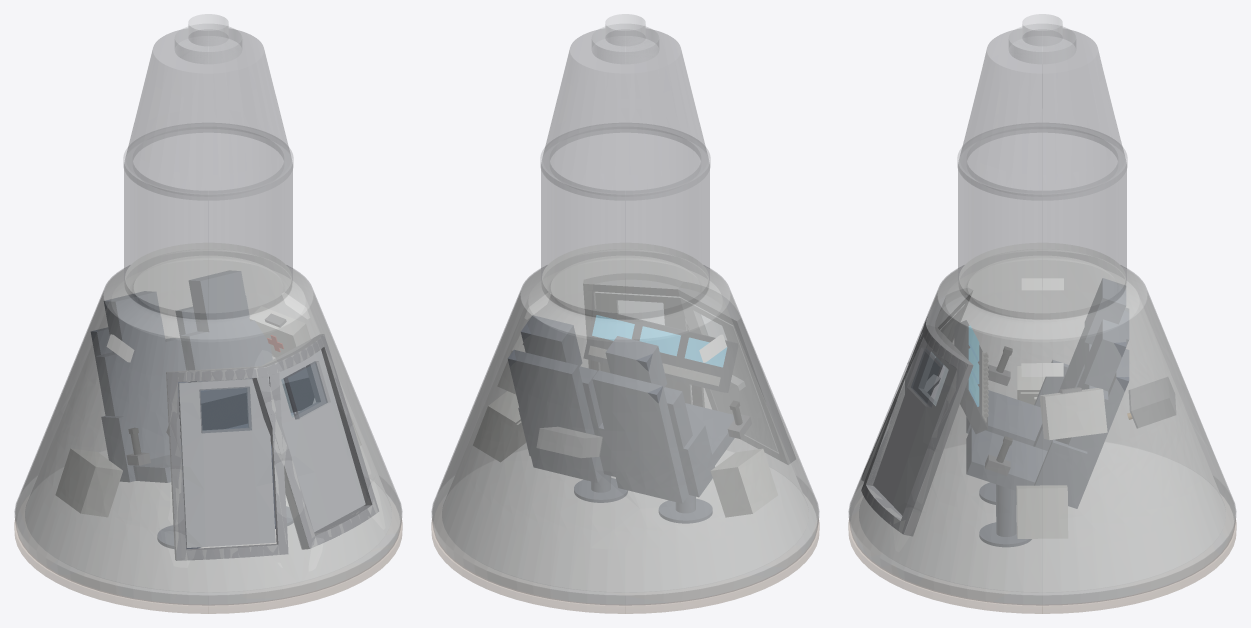
File: cmd03_gemini_capsule_combined.glb
3 renders of one model, left to right at view 1: azimuth 30°, elevation 25°; view 2: azimuth 150°, elevation 25°; view 3: azimuth 270°, elevation 25°, orthographic.
Visible parts, largest first — view 1: ext_cabin_hull, pressure_vessel, hatch_door_1, seat_1, hatch_door_2, seat_2, hatch_tunnel_1, hatch_tunnel_2, ext_rr_section_ring, ext_heat_shield, ext_windows, stowage_lockers (+4 smaller); view 2: ext_cabin_hull, pressure_vessel, seat_1, seat_2, stowage_lockers, ext_rr_section_ring, ext_heat_shield, hatch_tunnel_1, hatch_door_1, main_panel, ext_docking_nose, hatch_tunnel_2 (+5 smaller); view 3: ext_cabin_hull, pressure_vessel, seat_2, hatch_tunnel_2, hatch_door_2, seat_1, ext_rr_section_ring, ext_heat_shield, stowage_lockers, eq14_1_case, ext_docking_nose, hatch_tunnel_1 (+6 smaller).
Part boxes in pixels (x1=…): ext_cabin_hull: x1=14, y1=28, x2=402, y2=605; pressure_vessel: x1=15, y1=243, x2=401, y2=604; hatch_door_1: x1=178, y1=378, x2=275, y2=547; seat_1: x1=91, y1=291, x2=200, y2=549; hatch_door_2: x1=267, y1=349, x2=365, y2=532; seat_2: x1=176, y1=271, x2=294, y2=528; hatch_tunnel_1: x1=166, y1=365, x2=288, y2=560; hatch_tunnel_2: x1=252, y1=334, x2=379, y2=549; ext_rr_section_ring: x1=123, y1=123, x2=293, y2=200; ext_heat_shield: x1=14, y1=519, x2=402, y2=613; ext_windows: x1=199, y1=361, x2=327, y2=432; stowage_lockers: x1=56, y1=398, x2=361, y2=516; ext_cabin_hull: x1=431, y1=28, x2=819, y2=605; pressure_vessel: x1=432, y1=243, x2=818, y2=604; seat_1: x1=592, y1=336, x2=733, y2=523; seat_2: x1=508, y1=315, x2=627, y2=502; stowage_lockers: x1=473, y1=391, x2=777, y2=517; ext_rr_section_ring: x1=540, y1=123, x2=710, y2=200; ext_heat_shield: x1=431, y1=519, x2=819, y2=613; hatch_tunnel_1: x1=678, y1=282, x2=795, y2=464; hatch_door_1: x1=680, y1=298, x2=777, y2=451; main_panel: x1=584, y1=309, x2=737, y2=392; ext_docking_nose: x1=592, y1=14, x2=658, y2=63; hatch_tunnel_2: x1=583, y1=273, x2=704, y2=406; ext_cabin_hull: x1=848, y1=28, x2=1236, y2=605; pressure_vessel: x1=849, y1=243, x2=1235, y2=604; seat_2: x1=966, y1=319, x2=1129, y2=546; hatch_tunnel_2: x1=861, y1=323, x2=973, y2=536; hatch_door_2: x1=873, y1=345, x2=956, y2=515; seat_1: x1=966, y1=278, x2=1128, y2=504; ext_rr_section_ring: x1=957, y1=123, x2=1127, y2=200; ext_heat_shield: x1=848, y1=519, x2=1236, y2=613; stowage_lockers: x1=1016, y1=366, x2=1067, y2=538; eq14_1_case: x1=1040, y1=388, x2=1107, y2=439; ext_docking_nose: x1=1009, y1=14, x2=1075, y2=63; hatch_tunnel_1: x1=861, y1=288, x2=972, y2=481.
Size of the model in its own units: 2.3 by 3.58 by 2.3.
